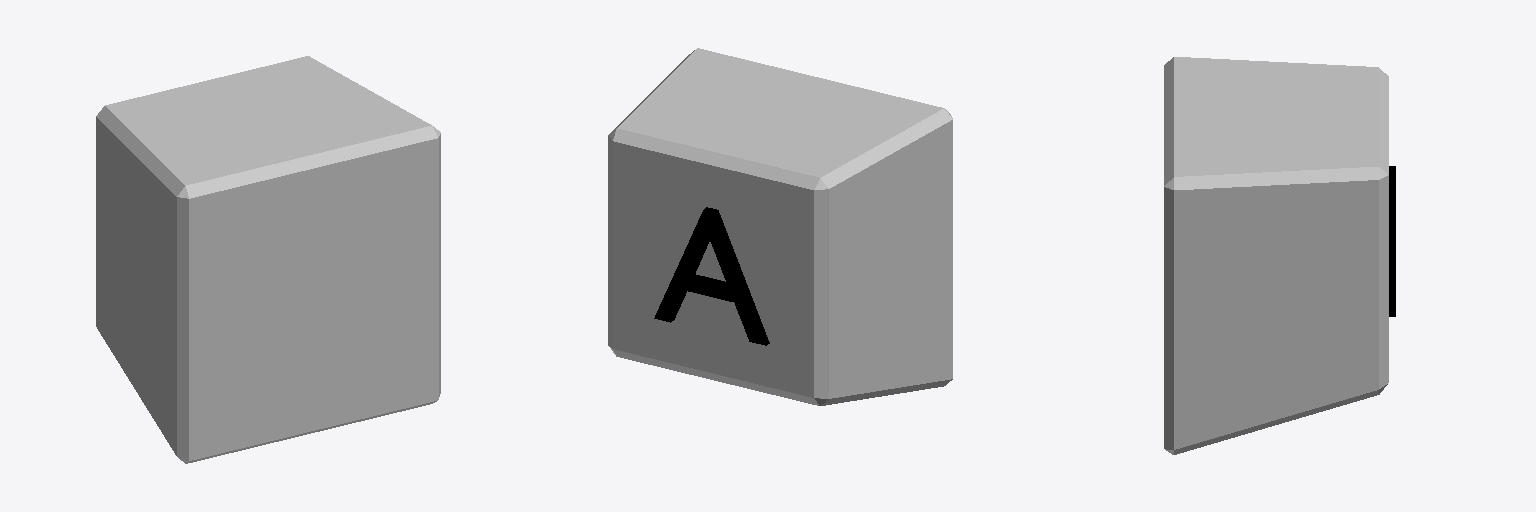
Rendered from A_key.obj.
3 renders of one model, left to right at view 1: azimuth 30°, elevation 25°; view 2: azimuth 150°, elevation 25°; view 3: azimuth 270°, elevation 25°, orthographic.
Visible parts, largest first — view 1: Cube.001; view 2: Cube.001, Text.001; view 3: Cube.001, Text.001.
Part boxes in pixels (bbox=[...]): Cube.001: bbox=[96, 56, 440, 463]; Cube.001: bbox=[608, 48, 952, 405]; Text.001: bbox=[654, 207, 769, 345]; Cube.001: bbox=[1164, 57, 1388, 454]; Text.001: bbox=[1389, 166, 1395, 316].
Bounding box in the file's own units: 0.9074 × 0.9126 × 0.6894.